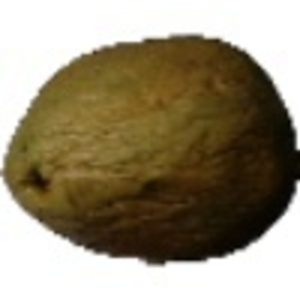mamão: (5, 14, 297, 267)
